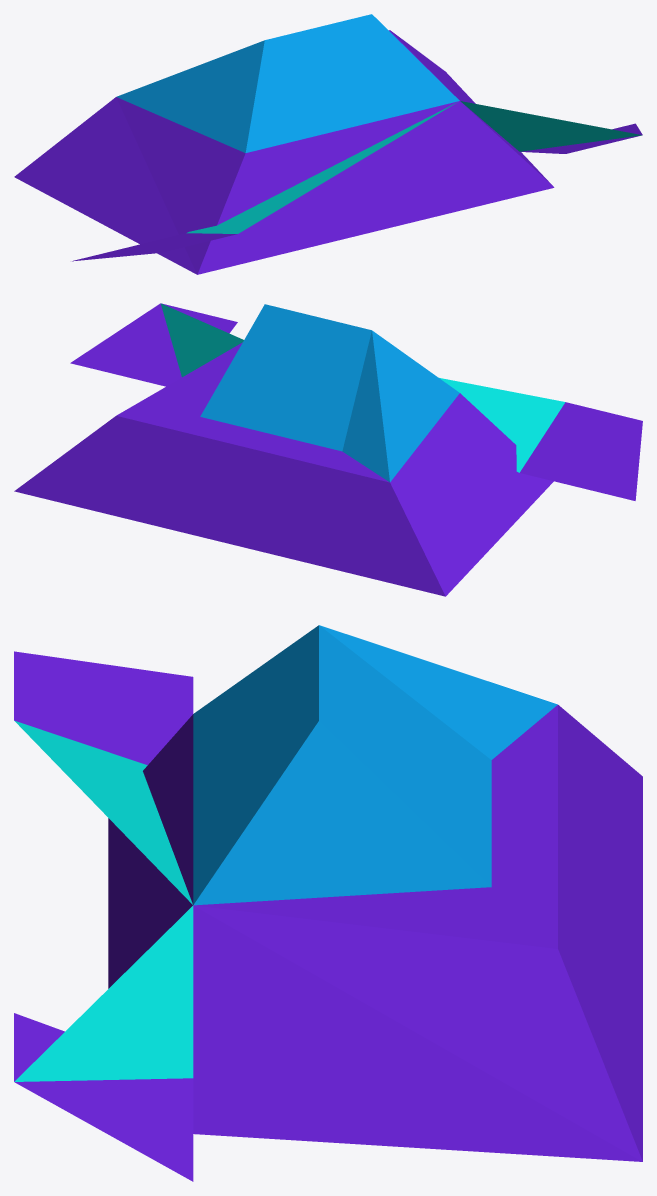
Rendered from shuttle.obj.
3 renders of one model, top to bottom at view 1: azimuth 30°, elevation 25°; view 2: azimuth 150°, elevation 25°; view 3: azimuth 270°, elevation 25°, orthographic. The views are drawn at different scales.
Visible parts, largest first — view 1: rescue_shuttle; view 2: rescue_shuttle; view 3: rescue_shuttle.
Boxes of the visible parts, <box> form: rescue_shuttle: <box>14,14,642,274</box>; rescue_shuttle: <box>14,303,642,596</box>; rescue_shuttle: <box>14,625,642,1181</box>.
Size of the model in its own units: 3.8 by 1.04 by 2.
